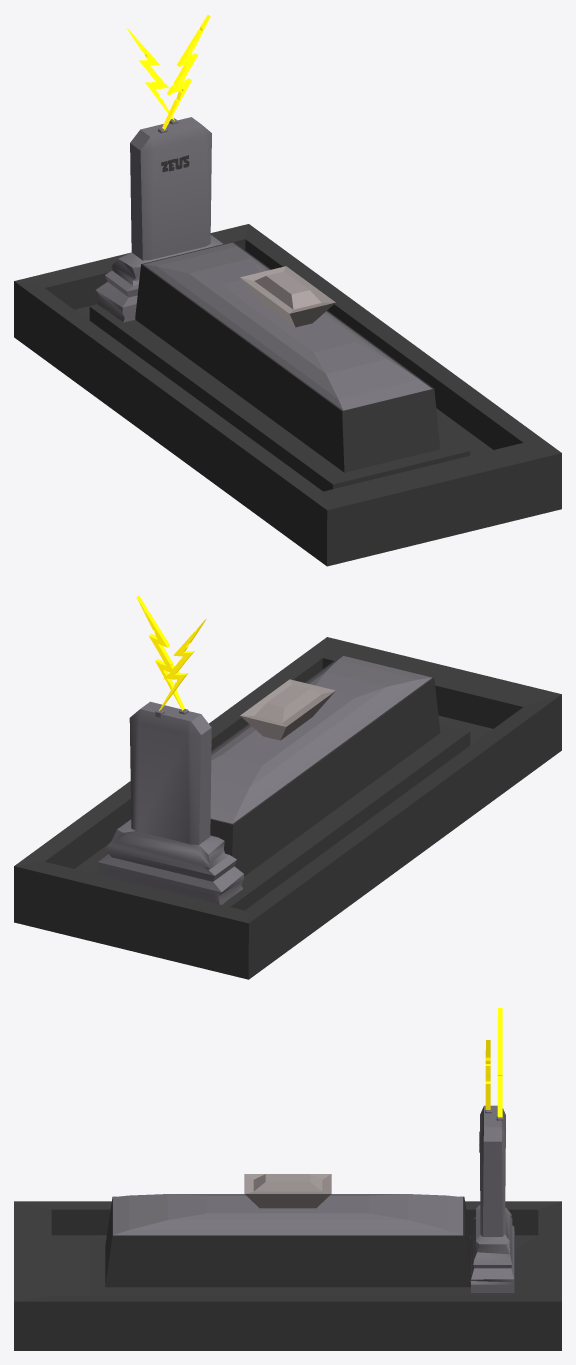
The model's file is zeus_grave.fbx.
3 views of the same model, one above another, from view 1: azimuth 30°, elevation 25°; view 2: azimuth 150°, elevation 25°; view 3: azimuth 270°, elevation 25° (orthographic). The views are drawn at different scales.
Visible parts, largest first — view 1: Cube, kapak, zeus; view 2: Cube, zeus, kapak; view 3: Cube, kapak, zeus.
Part boxes in pixels (x1,y1,x2,y2): Cube: [14, 224, 561, 566]; kapak: [144, 242, 431, 410]; zeus: [96, 15, 222, 322]; Cube: [14, 637, 561, 979]; zeus: [97, 595, 243, 904]; kapak: [210, 656, 431, 823]; Cube: [14, 1196, 561, 1350]; kapak: [113, 1174, 462, 1235]; zeus: [470, 1008, 514, 1292].
Bounding box in the file's own units: 199 × 256 × 461.
